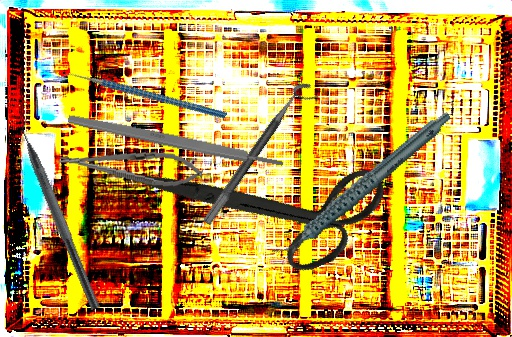Chopper: (55, 22, 228, 172), (9, 108, 114, 311)
Fixation Ring: (201, 77, 322, 235)
Handpiece: (250, 110, 473, 260)
Iris Scissors: (129, 89, 402, 320)
Needle Holder: (57, 140, 205, 192)
Scalpel Handle: (67, 112, 284, 171)
